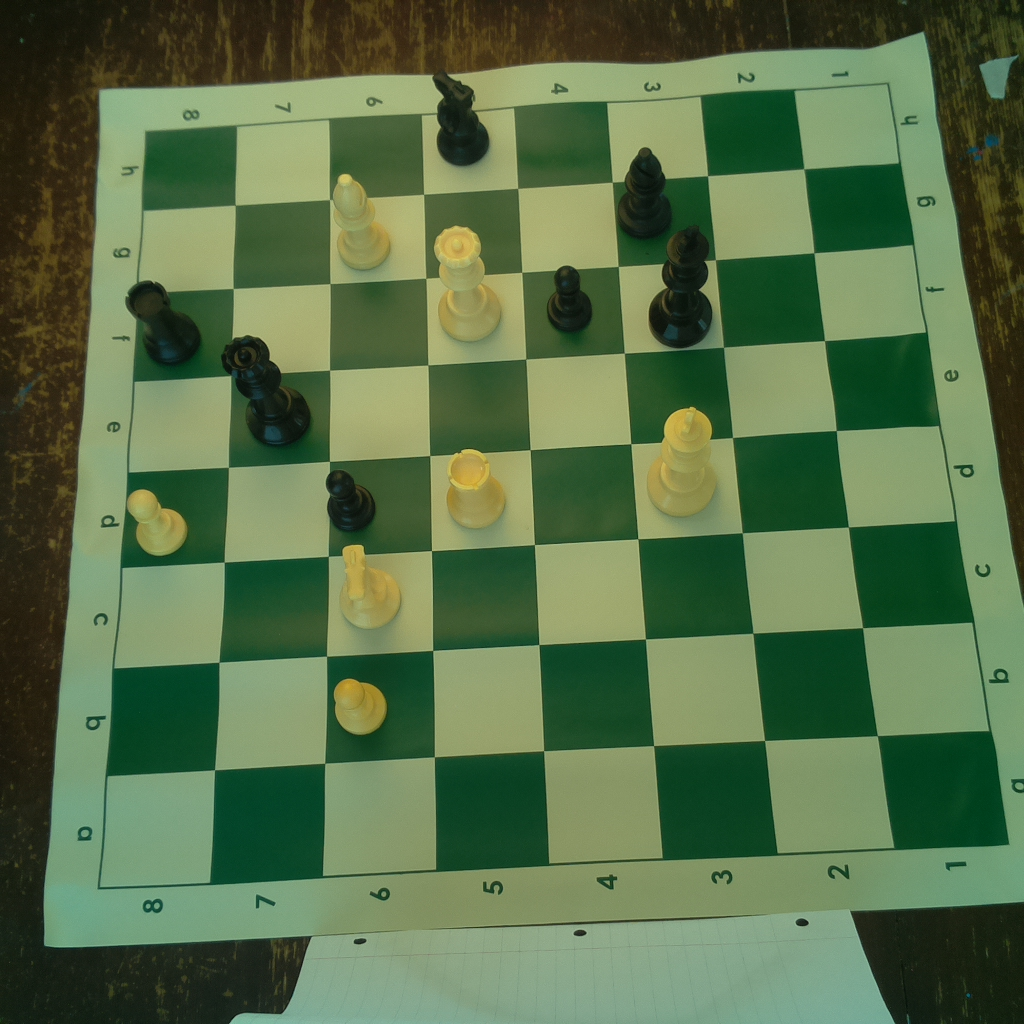black_bishop: (614, 143, 675, 241)
black_king: (651, 226, 719, 347)
black_knight: (424, 62, 494, 169)
black_pawn: (544, 261, 596, 335), (325, 465, 380, 534)
black_queen: (221, 332, 314, 449)
black_rook: (123, 275, 206, 367)
file_a: (99, 731, 1008, 893)
file_b: (107, 622, 990, 777)
file_c: (115, 522, 973, 666)
file_d: (119, 425, 955, 567)
file_e: (129, 332, 941, 473)
file_f: (132, 244, 928, 384)
file_g: (137, 164, 912, 293)
file_h: (146, 84, 903, 212)
outline: (98, 82, 1012, 892)
rank_1: (797, 82, 1008, 851)
rank_2: (702, 87, 894, 856)
rank_3: (608, 96, 780, 860)
rank_4: (516, 100, 663, 864)
rank_5: (421, 104, 547, 874)
rank_6: (321, 112, 437, 874)
rank_7: (211, 121, 331, 883)
rank_8: (98, 126, 241, 884)
white_bishop: (328, 167, 396, 274)
white_king: (645, 401, 720, 519)
white_knight: (329, 540, 405, 630)
white_pawn: (127, 480, 197, 560), (329, 671, 394, 740)
white_queen: (427, 222, 505, 347)
white_rook: (437, 444, 514, 536)
